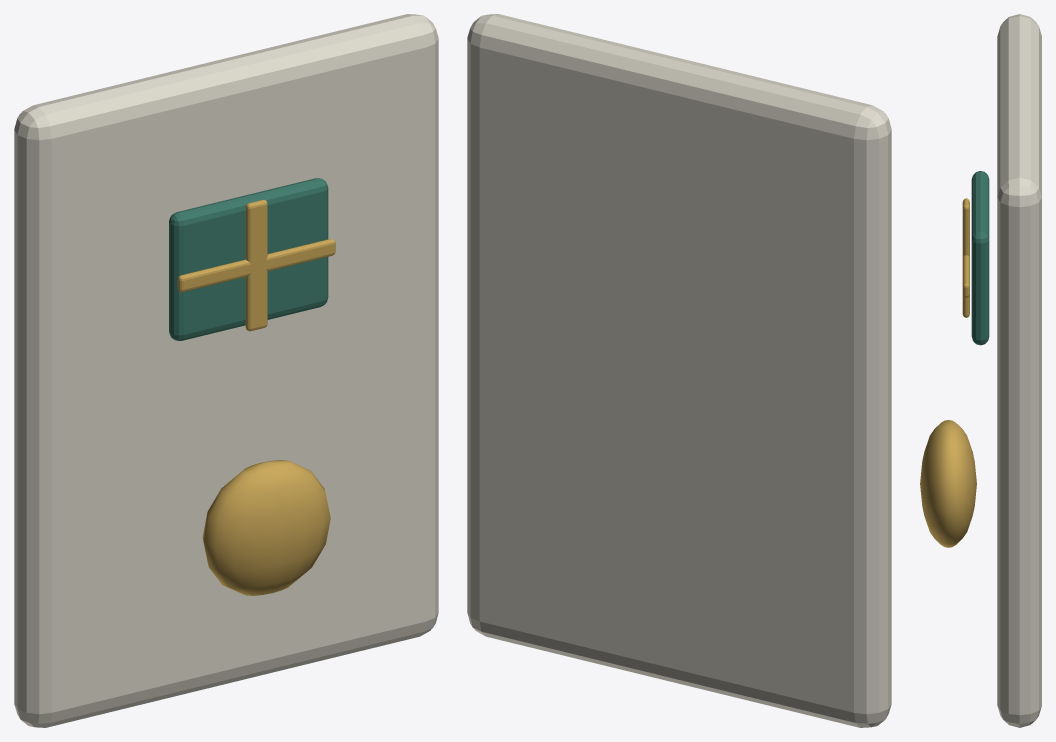
File: delivery_bell.glb
The picture shows the model from 3 angles, left to right: view 1: azimuth 30°, elevation 25°; view 2: azimuth 150°, elevation 25°; view 3: azimuth 270°, elevation 25°; orthographic projection. The views are drawn at different scales.
Parts seen in each view (by area): view 1: Enamel_plate, Parcel_icon, Round_button, Parcel_ribbon, Parcel_ribbon.001; view 2: Enamel_plate; view 3: Enamel_plate, Round_button, Parcel_icon, Parcel_ribbon, Parcel_ribbon.001.
Part boxes in pixels (x1,y1,x2,y2): Enamel_plate: (14,14,438,727); Parcel_icon: (169,178,328,340); Round_button: (202,460,330,595); Parcel_ribbon: (245,199,267,331); Parcel_ribbon.001: (177,238,335,292); Enamel_plate: (467,14,891,727); Enamel_plate: (997,14,1041,727); Round_button: (920,420,976,547); Parcel_icon: (971,171,989,345); Parcel_ribbon: (962,198,969,317); Parcel_ribbon.001: (962,255,969,297).
Bounding box in the file's own units: 0.24 × 0.34 × 0.0685.
